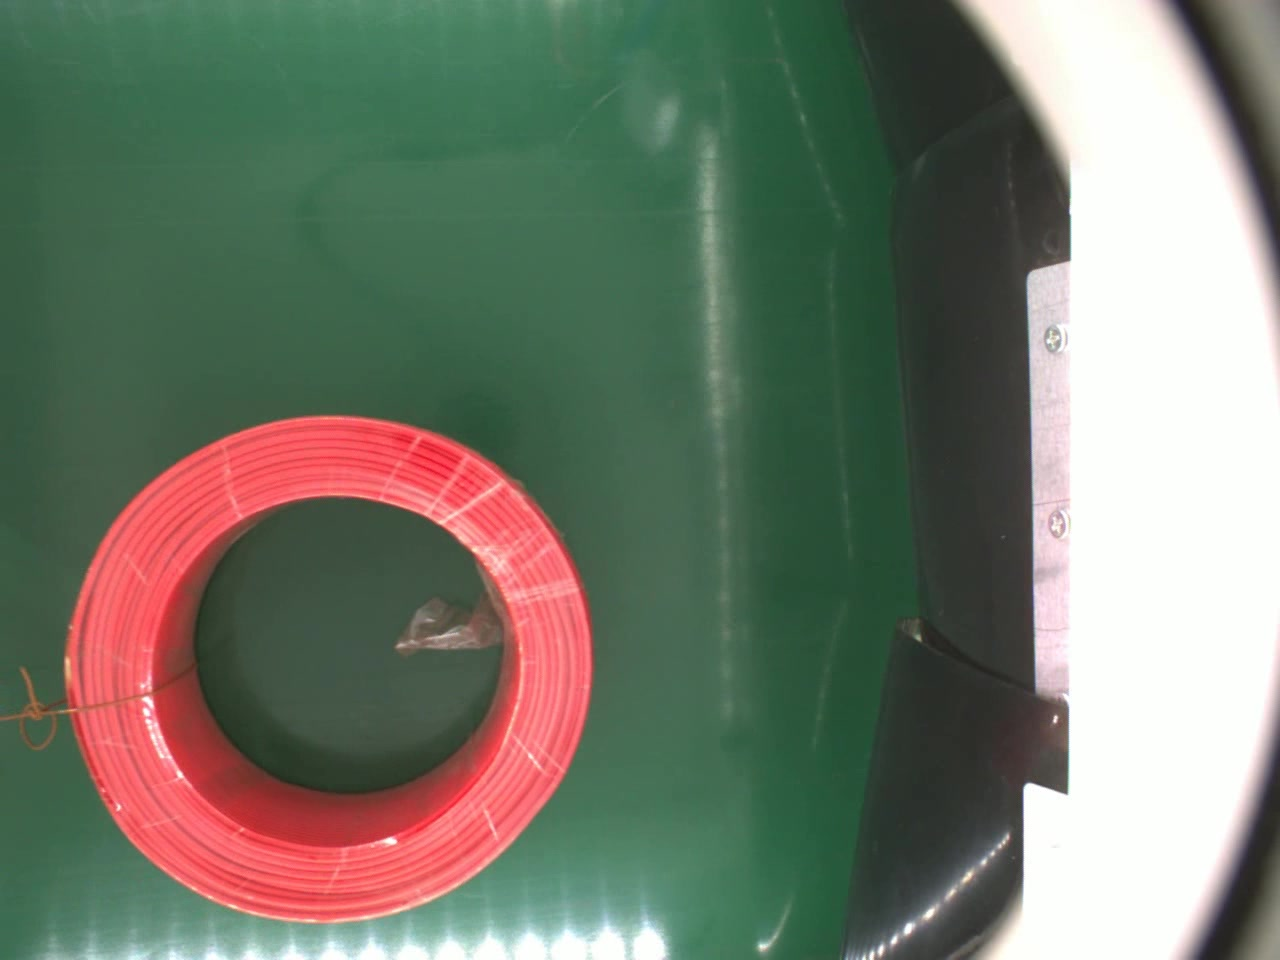red: (62, 406, 590, 928)
